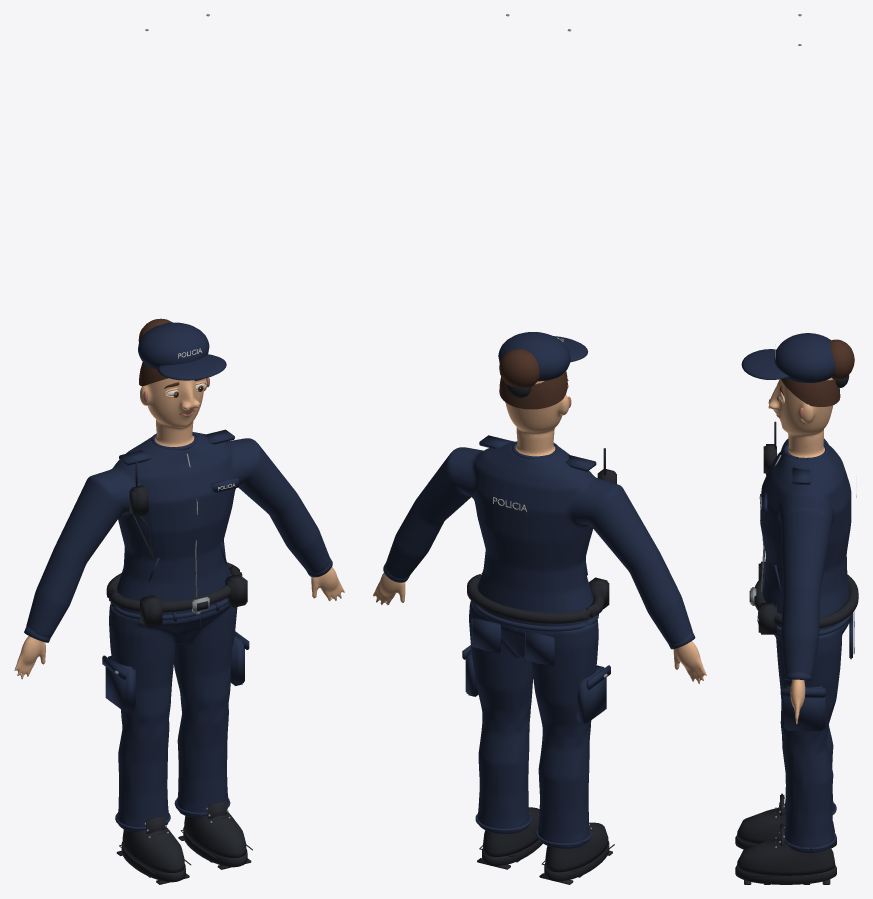
The model's file is NPC2_14_Police_Female.fbx.
3 renders of one model, left to right at view 1: azimuth 30°, elevation 25°; view 2: azimuth 150°, elevation 25°; view 3: azimuth 270°, elevation 25°, orthographic.
Visible parts, largest first — view 1: Garment_Top_Continuous.003, Trouser_Continuous.003, Skin_14_Police_Female, Cap_Crown.001, Shoe_Upper.006, Shoe_Upper.007, Duty_Belt.001, Cargo_Pocket.004, Cap_Visor.001, Duty_Pouch.002; view 2: Garment_Top_Continuous.003, Trouser_Continuous.003, Skin_14_Police_Female, Cap_Crown.001, Duty_Belt.001, Shoe_Upper.006, Hair_Cap.003, Shoe_Upper.007, Hair_Bun, Cargo_Pocket.004, Back_Pocket.006, Back_Pocket.007 (+1 smaller); view 3: Garment_Top_Continuous.003, Trouser_Continuous.003, Skin_14_Police_Female, Shoe_Upper.007, Cap_Crown.001, Cargo_Pocket.005, Shoe_Upper.006, Hair_Cap.003, Duty_Belt.001, Cap_Visor.001, Shoe_Sole.007, Hair_Bun (+4 smaller).
Boxes of the visible parts, bbox=[...] form: Garment_Top_Continuous.003: bbox=[26, 432, 330, 638]; Trouser_Continuous.003: bbox=[109, 602, 237, 832]; Skin_14_Police_Female: bbox=[14, 378, 344, 679]; Cap_Crown.001: bbox=[138, 322, 209, 369]; Shoe_Upper.006: bbox=[122, 827, 184, 872]; Shoe_Upper.007: bbox=[184, 812, 246, 857]; Duty_Belt.001: bbox=[106, 562, 242, 612]; Cargo_Pocket.004: bbox=[105, 656, 135, 712]; Cap_Visor.001: bbox=[157, 354, 226, 380]; Duty_Pouch.002: bbox=[140, 595, 162, 628]; Garment_Top_Continuous.003: bbox=[385, 441, 692, 644]; Trouser_Continuous.003: bbox=[469, 601, 598, 848]; Skin_14_Police_Female: bbox=[373, 381, 706, 683]; Cap_Crown.001: bbox=[498, 332, 570, 381]; Duty_Belt.001: bbox=[467, 573, 603, 623]; Shoe_Upper.006: bbox=[545, 822, 608, 872]; Hair_Cap.003: bbox=[499, 371, 567, 409]; Shoe_Upper.007: bbox=[483, 807, 539, 856]; Hair_Bun: bbox=[499, 349, 539, 388]; Cargo_Pocket.004: bbox=[576, 665, 606, 723]; Back_Pocket.006: bbox=[524, 630, 554, 666]; Back_Pocket.007: bbox=[471, 617, 500, 653]; Garment_Top_Continuous.003: bbox=[760, 438, 851, 675]; Trouser_Continuous.003: bbox=[774, 620, 849, 852]; Skin_14_Police_Female: bbox=[769, 377, 833, 724]; Shoe_Upper.007: bbox=[737, 837, 835, 875]; Cap_Crown.001: bbox=[774, 333, 835, 382]; Cargo_Pocket.005: bbox=[784, 684, 825, 730]; Shoe_Upper.006: bbox=[737, 807, 834, 843]; Hair_Cap.003: bbox=[781, 378, 840, 406]; Duty_Belt.001: bbox=[754, 574, 858, 628]; Cap_Visor.001: bbox=[741, 349, 788, 379]; Shoe_Sole.007: bbox=[735, 865, 836, 884]; Hair_Bun: bbox=[829, 339, 854, 380].
Bounding box in the file's own units: 1.16 × 2.8 × 0.3743.
